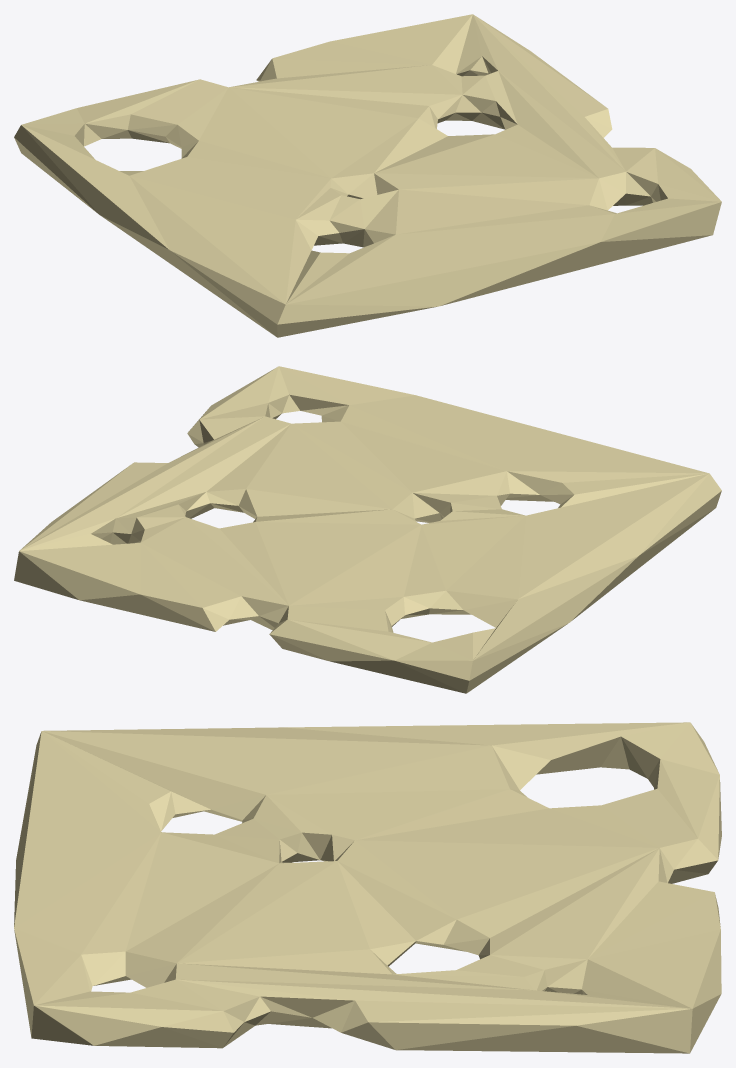
The model's file is swiss.fbx.
The picture shows the model from 3 angles, top to bottom: view 1: azimuth 30°, elevation 25°; view 2: azimuth 150°, elevation 25°; view 3: azimuth 270°, elevation 25°; orthographic projection. The views are drawn at different scales.
Parts seen in each view (by area): view 1: Swiss; view 2: Swiss; view 3: Swiss.
Part boxes in pixels (x1,y1,x2,y2): Swiss: (14, 14, 721, 337); Swiss: (14, 366, 721, 693); Swiss: (14, 722, 721, 1053).
Bounding box in the file's own units: 100 × 6.87 × 99.84.
